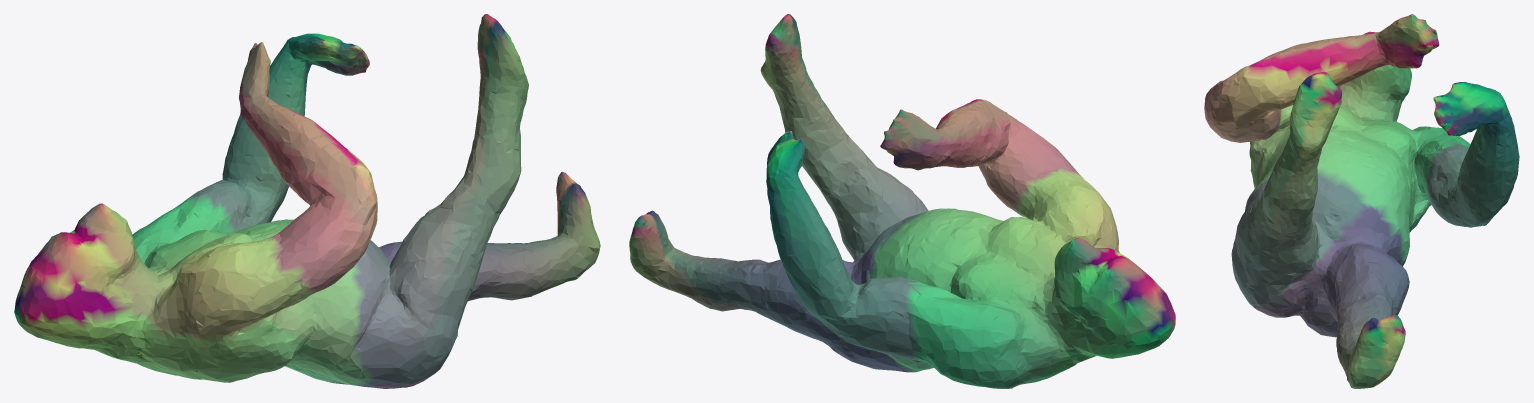
Rendered from gorilla-1.off.obj.
3 views of the same model, side by side, from view 1: azimuth 30°, elevation 25°; view 2: azimuth 150°, elevation 25°; view 3: azimuth 270°, elevation 25° (orthographic). The views are drawn at different scales.
Bounding box in the file's own units: 1.65 × 0.9431 × 0.8742.
